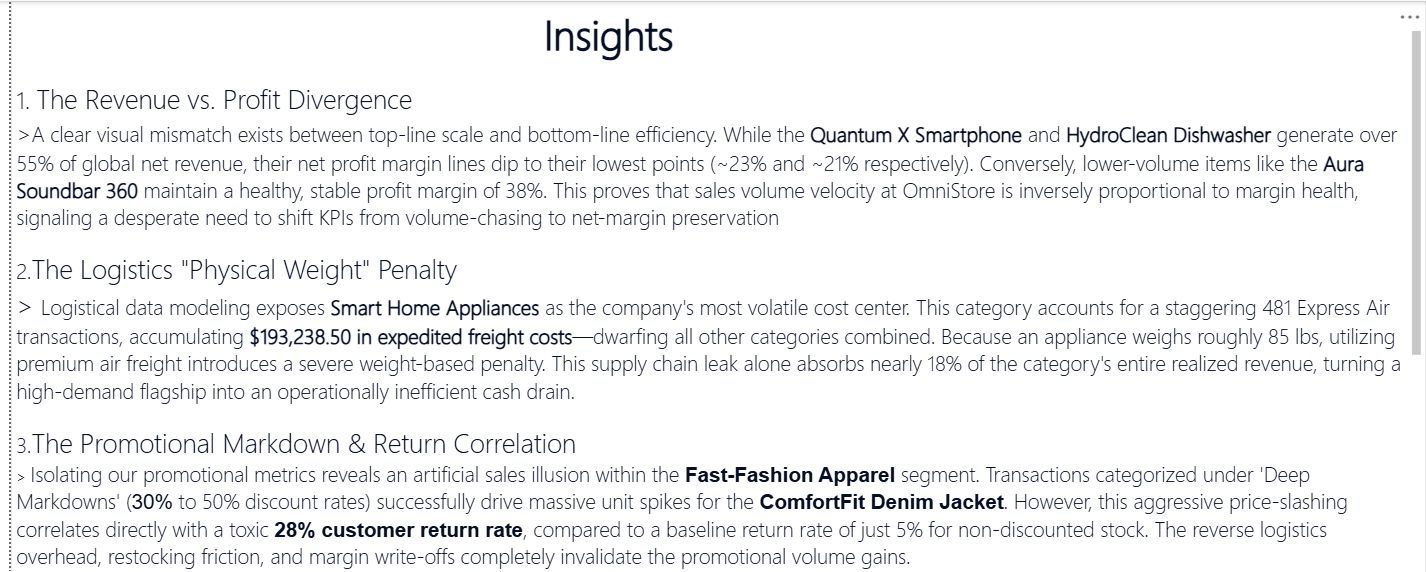

This screenshot's page, from the dashboard's own definition file:
{"tool":"powerbi","page":{"name":"Page 2","canvas":[1280,720],"ordinal":1},"visuals":[{"type":"textbox","box":[0,0,1280.3,720.4],"z":0}]}

Visuals, with their boxes on the page's 1280x720 design canvas (x1, y1, x2, y2). These are canvas units, not pixel positions in the 1426x572 screenshot, which may show the page scaled, cropped or inside an application window:
textbox: bbox(0, 0, 1280, 720)
